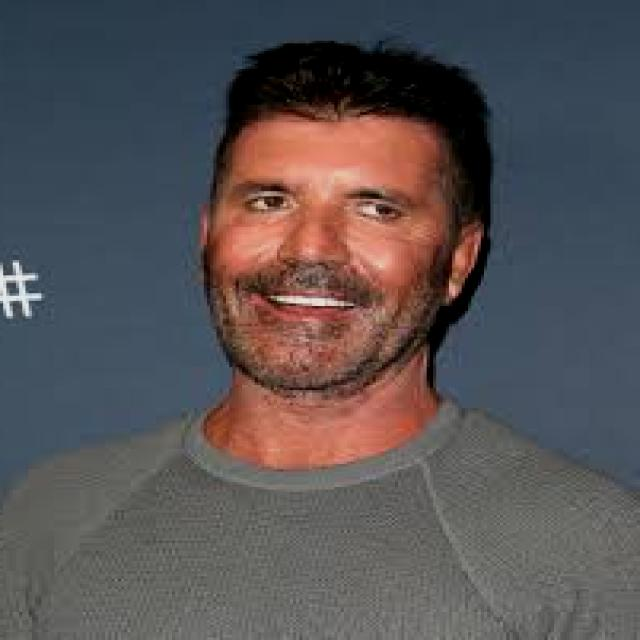normal_face: (202, 67, 478, 390)
